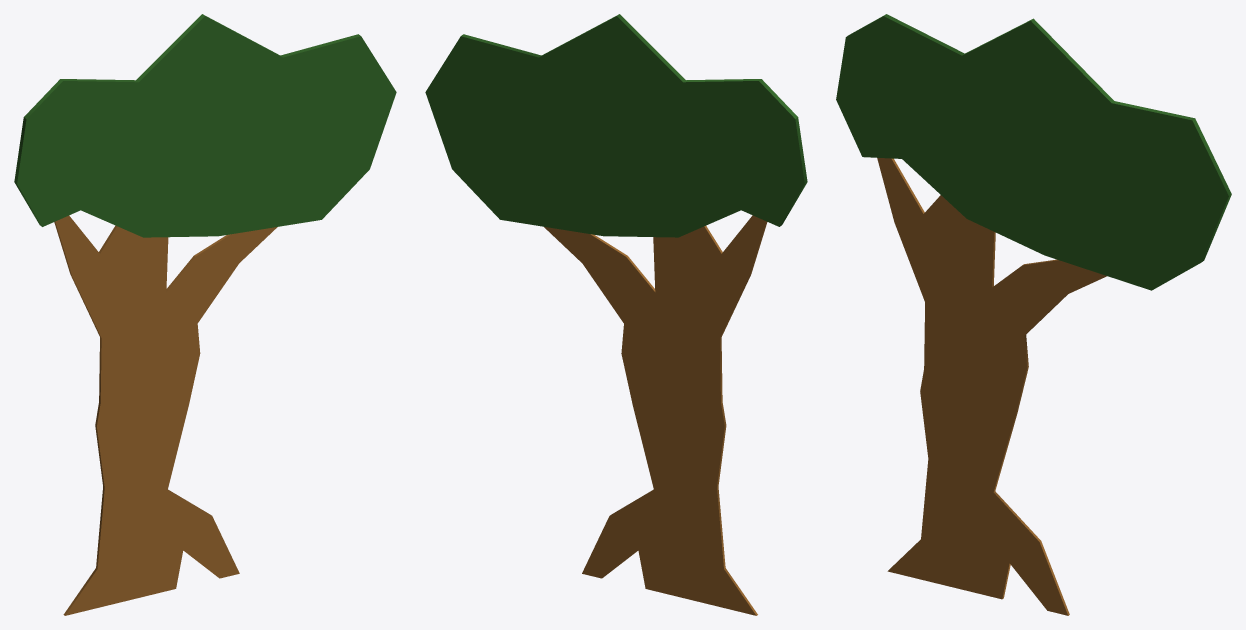
The model's file is ProtoTree1.fbx.
The picture shows the model from 3 angles, left to right: view 1: azimuth 30°, elevation 25°; view 2: azimuth 150°, elevation 25°; view 3: azimuth 330°, elevation 25°; orthographic projection. The views are drawn at different scales.
Parts seen in each view (by area): view 1: Tree1; view 2: Tree1; view 3: Tree1.
Part boxes in pixels (x1,y1,x2,y2): Tree1: [14, 14, 396, 615]; Tree1: [425, 14, 807, 615]; Tree1: [836, 14, 1231, 615].
Bounding box in the file's own units: 329 × 470 × 4.18.
